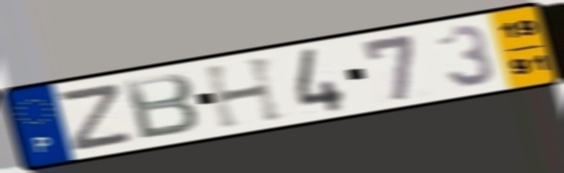3: (433, 22, 498, 91)
4: (293, 45, 350, 116)
7: (359, 31, 422, 103)
B: (120, 71, 203, 143)
H: (200, 53, 289, 132)
Z: (57, 80, 136, 154)
